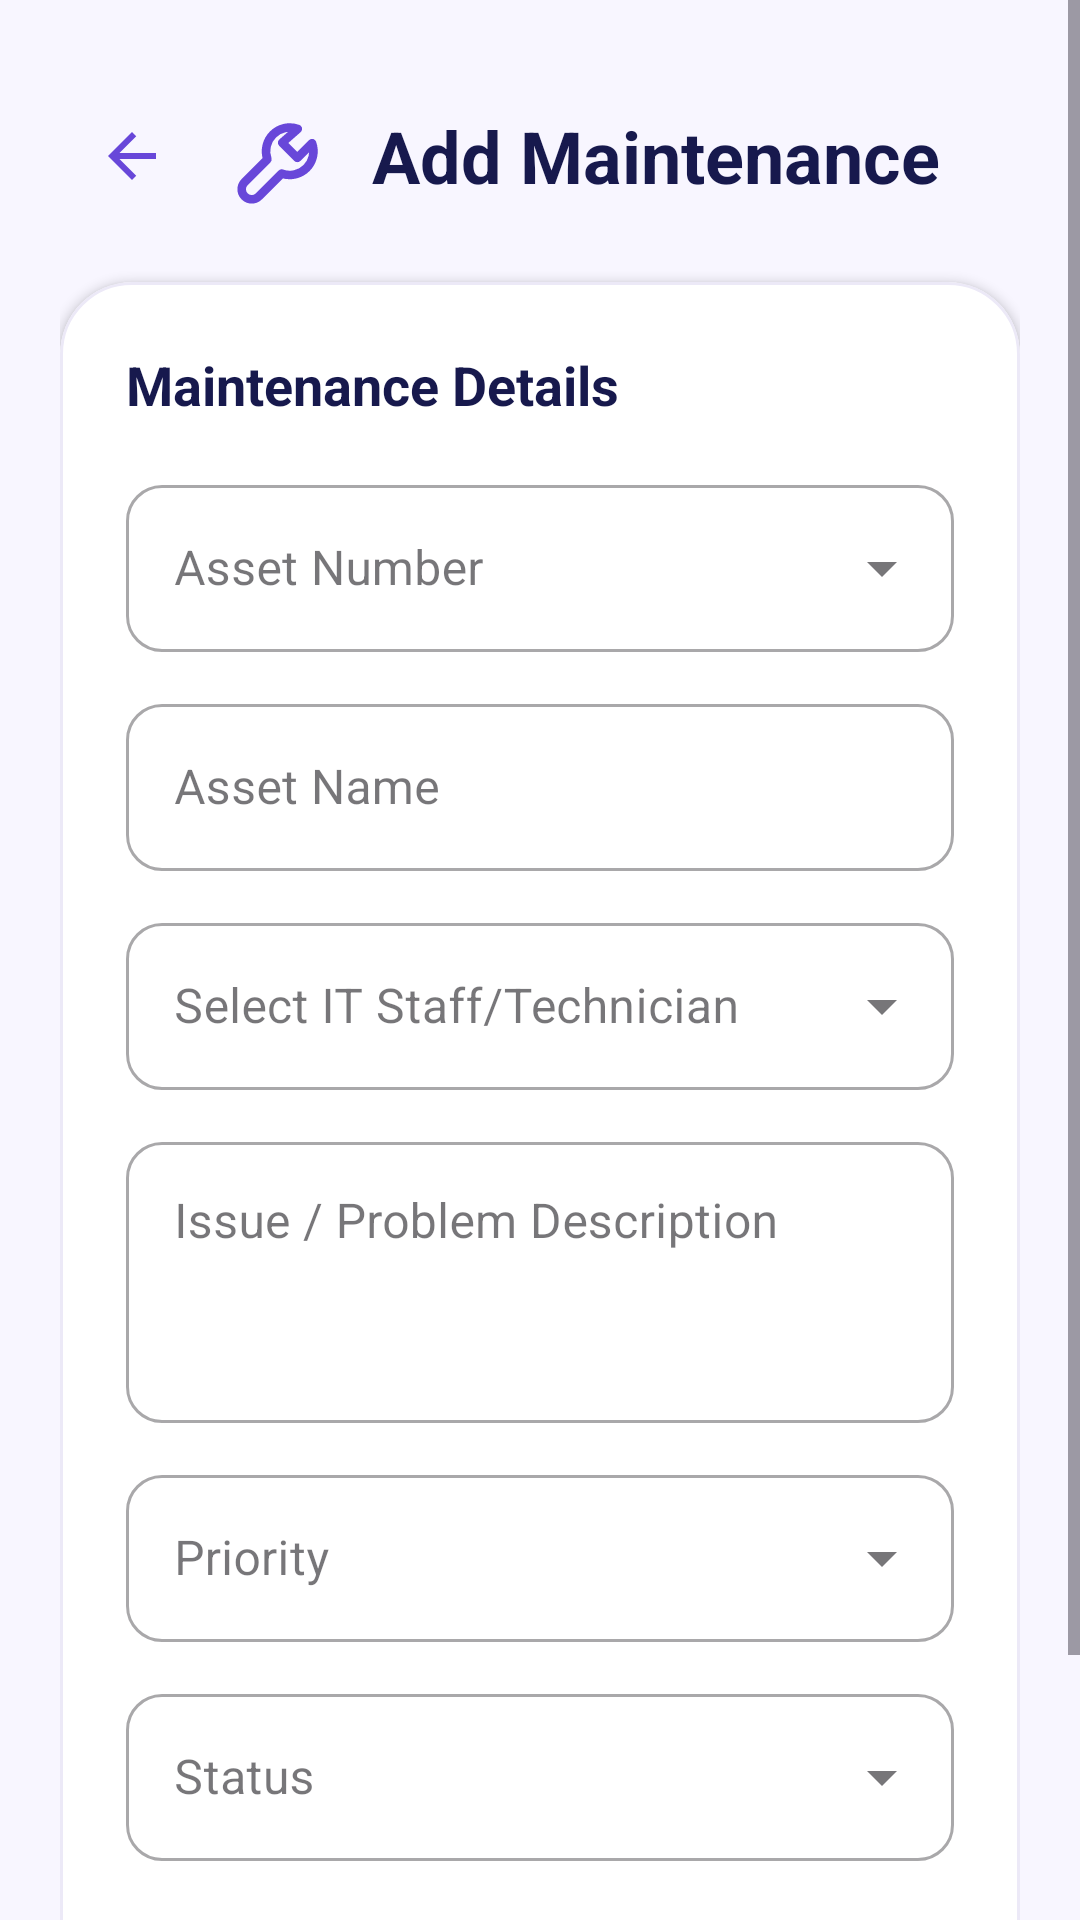

Icons on this 1080 × 1920 Android screen, each with its box as box(x1, y1, x2, y2):
Back: box(108, 132, 156, 180)
